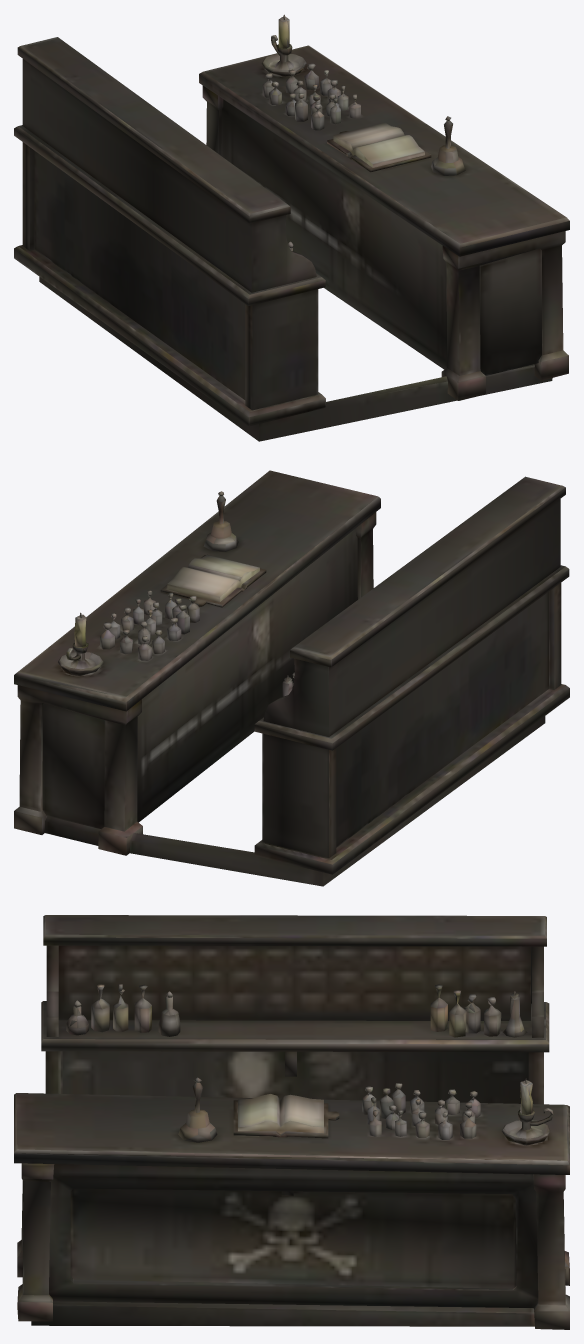
The model's file is alch_counter.glb.
3 views of the same model, one above another, from view 1: azimuth 30°, elevation 25°; view 2: azimuth 150°, elevation 25°; view 3: azimuth 270°, elevation 25° (orthographic). The views are drawn at different scales.
Parts seen in each view (by area): view 1: tripo_node_9b6392b5-cd3e-4790-8e88-ee6e8a1303bc; view 2: tripo_node_9b6392b5-cd3e-4790-8e88-ee6e8a1303bc; view 3: tripo_node_9b6392b5-cd3e-4790-8e88-ee6e8a1303bc.
Part boxes in pixels (x1,y1,x2,y2): tripo_node_9b6392b5-cd3e-4790-8e88-ee6e8a1303bc: [14, 14, 569, 441]; tripo_node_9b6392b5-cd3e-4790-8e88-ee6e8a1303bc: [14, 470, 569, 886]; tripo_node_9b6392b5-cd3e-4790-8e88-ee6e8a1303bc: [14, 915, 569, 1329].
Size of the model in its own units: 0.6972 by 0.5059 by 0.998.
1 material, 1 textured.
